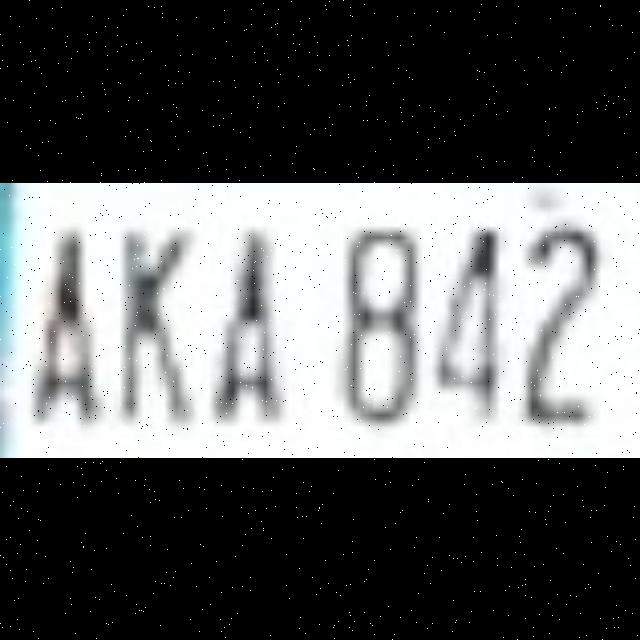2: (518, 210, 616, 446)
4: (418, 210, 514, 446)
8: (318, 210, 416, 446)
A: (220, 210, 318, 446), (21, 210, 118, 446)
K: (122, 210, 218, 446)
